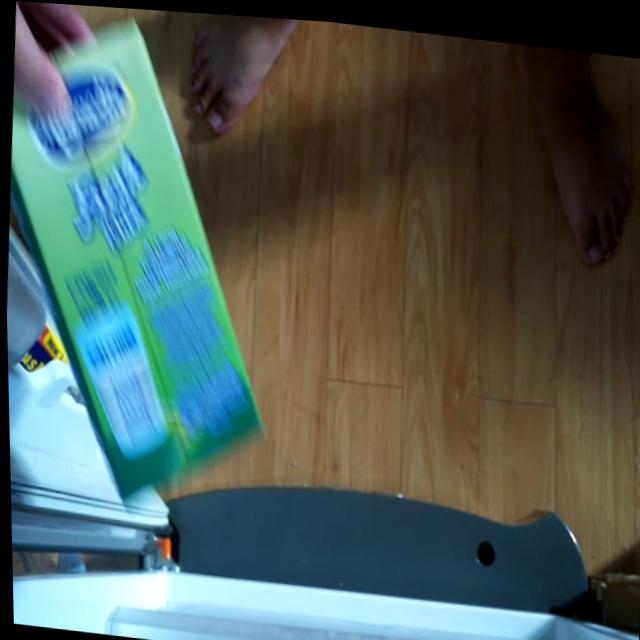milk: (0, 0, 289, 524)
